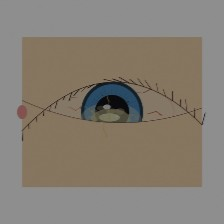corneal_ulcer: (78, 94, 143, 146)
